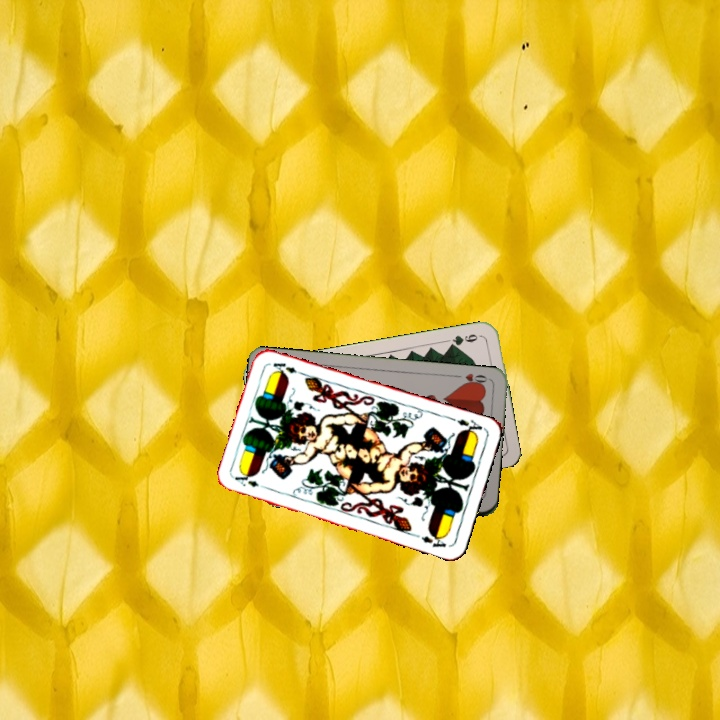EA: (231, 470, 270, 492), (453, 415, 486, 438)
G9: (445, 330, 484, 350)
HO: (451, 369, 492, 389)
